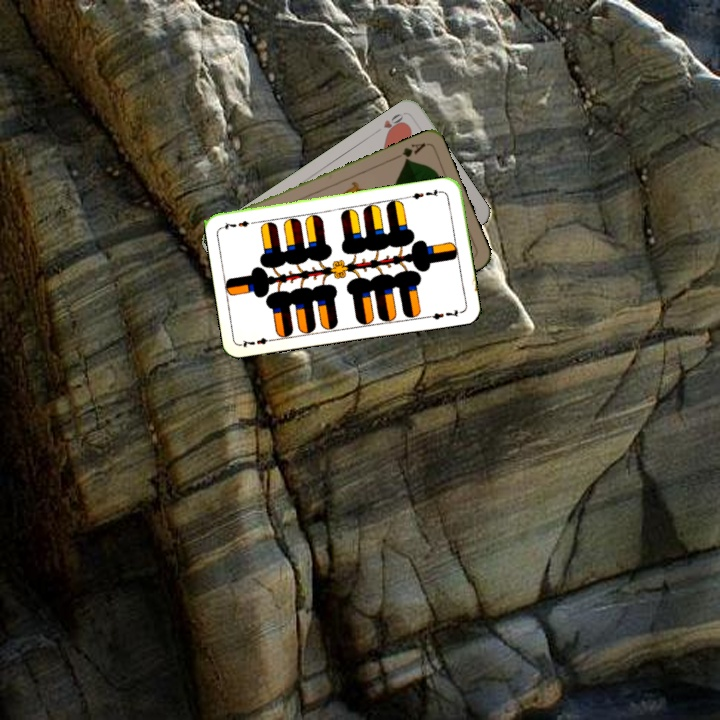E7: (405, 185, 446, 202), (237, 334, 278, 350)
GA: (391, 139, 428, 164)
HO: (379, 109, 408, 138)
